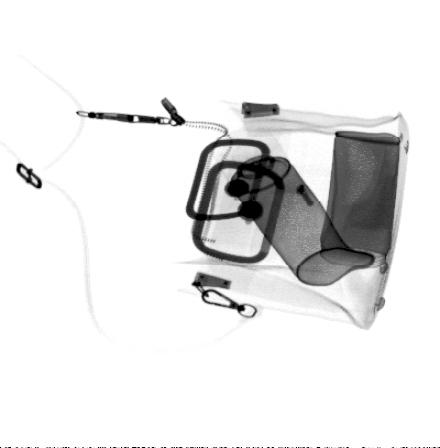Sprayer: (210, 124, 379, 288)
